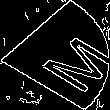M_NW: (7, 21, 103, 89)
